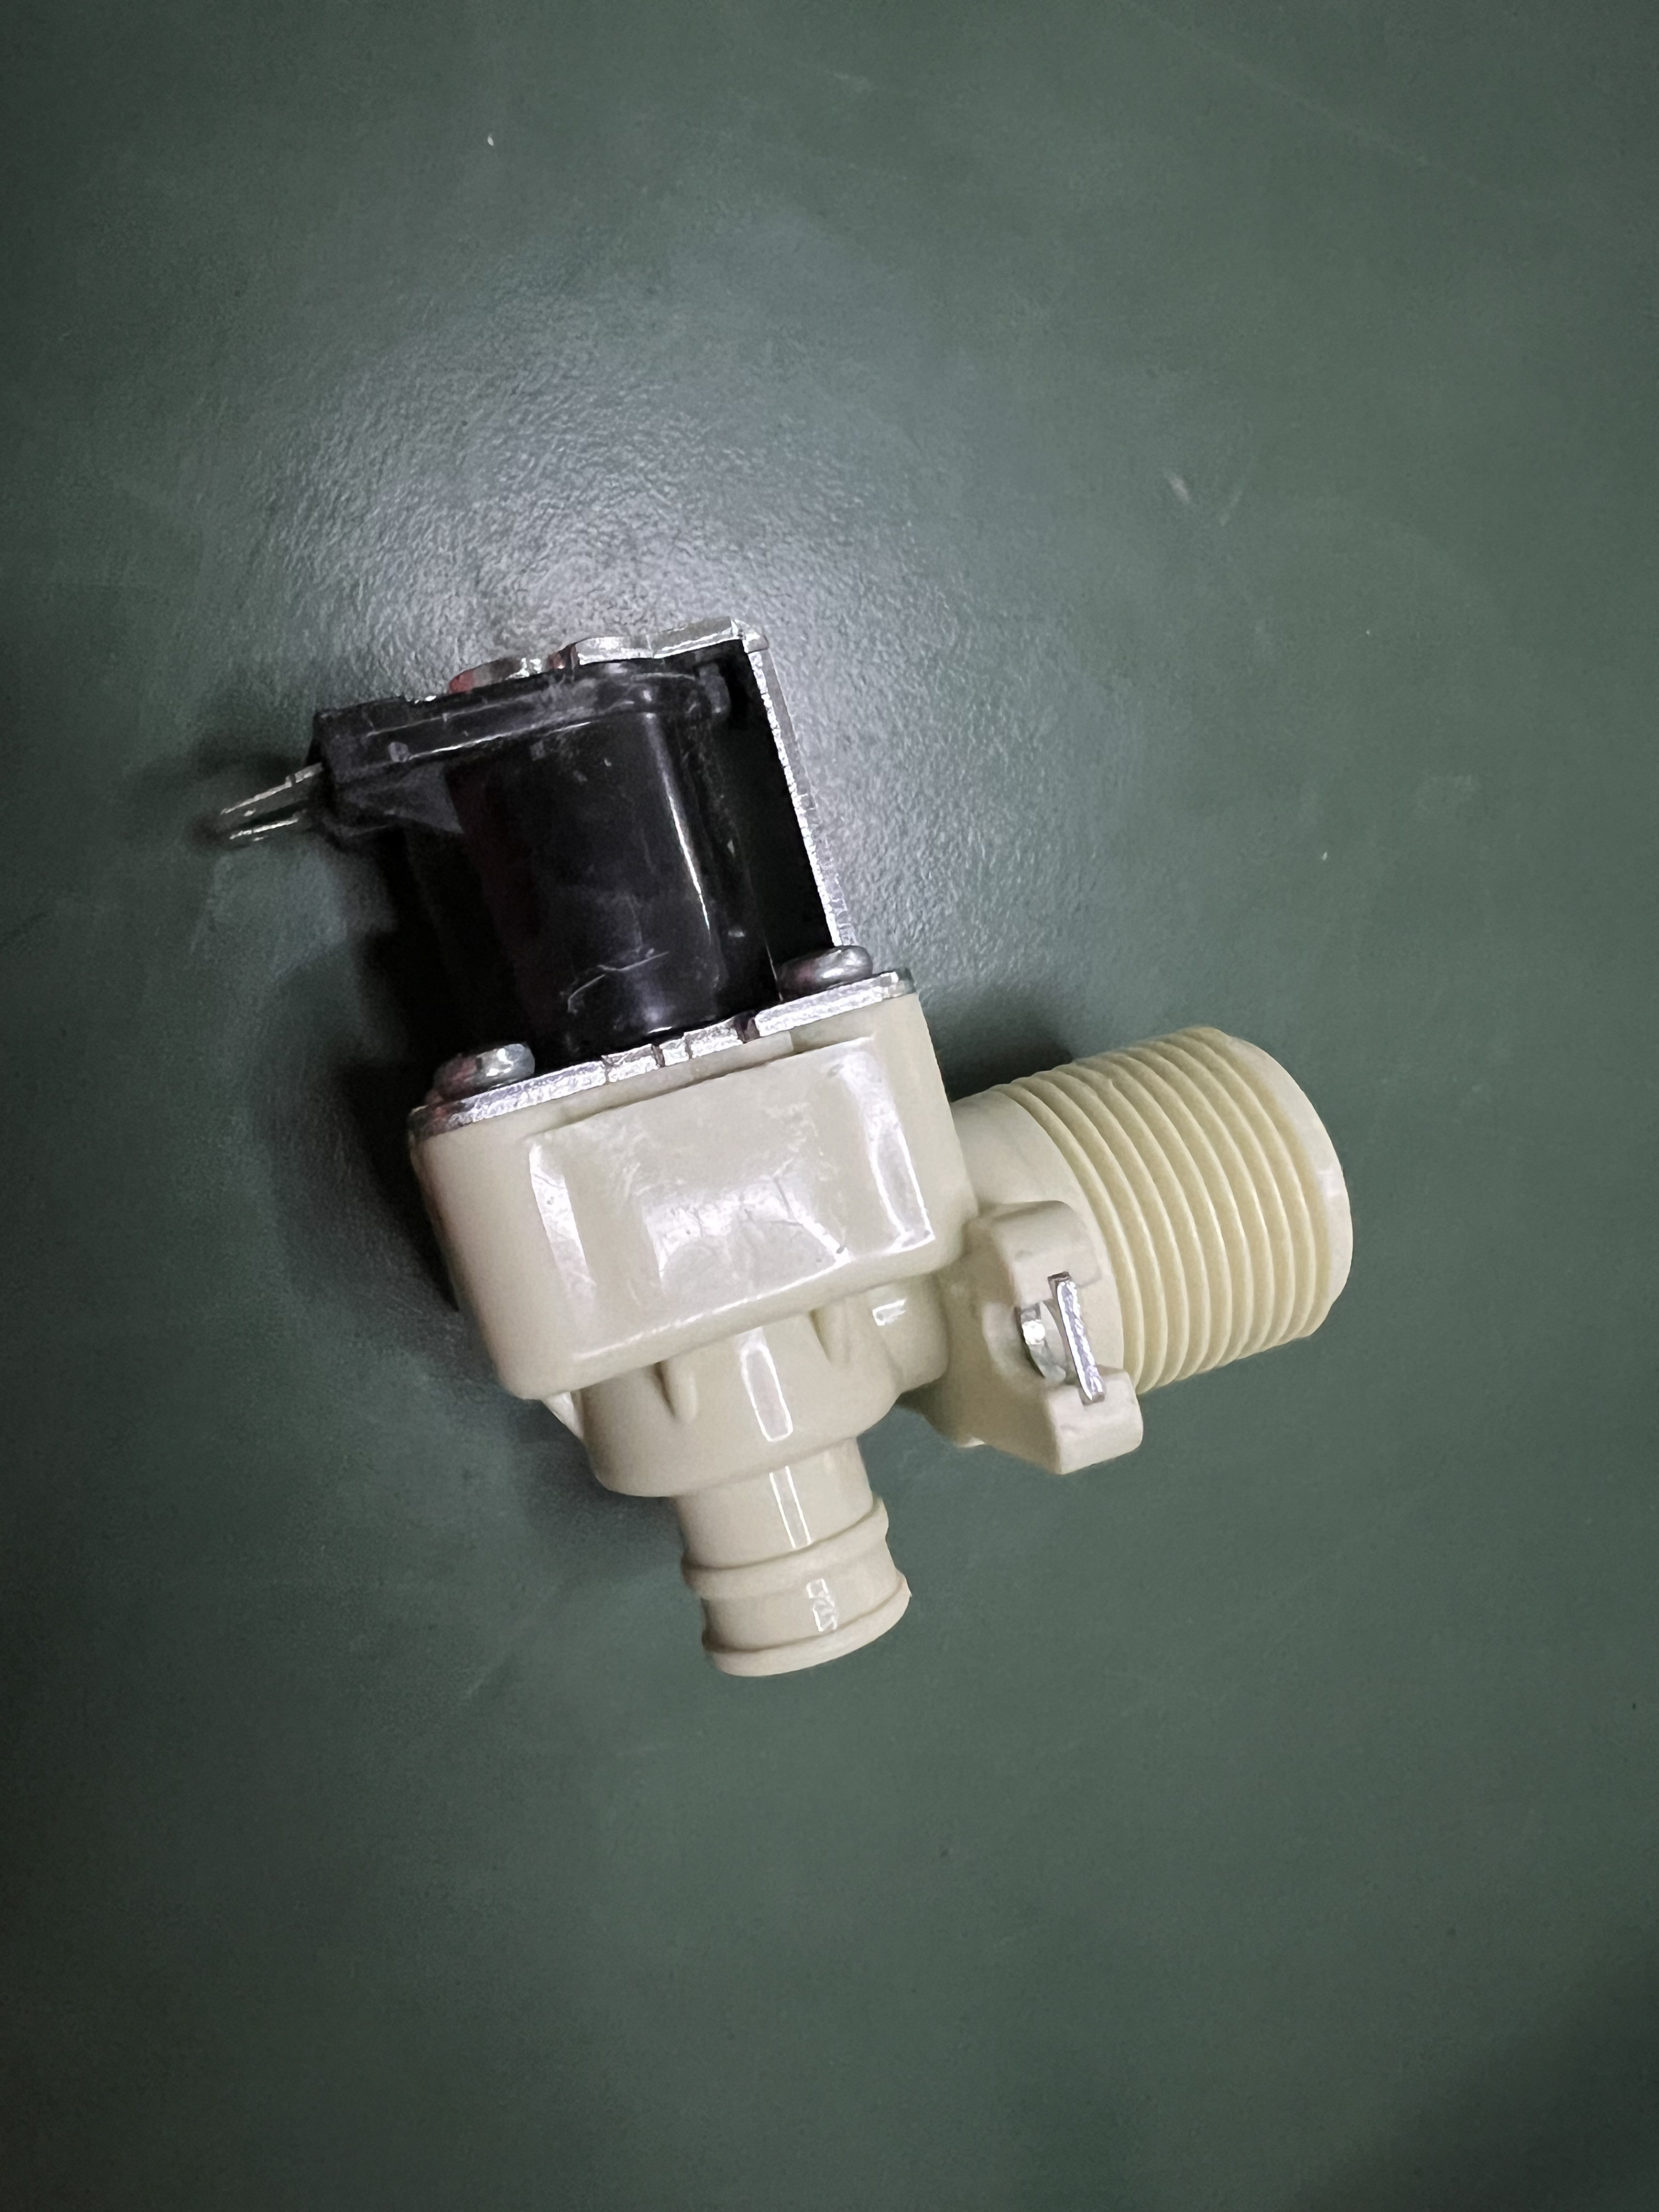godrej_inlet_valves: (179, 608, 1384, 1686)
